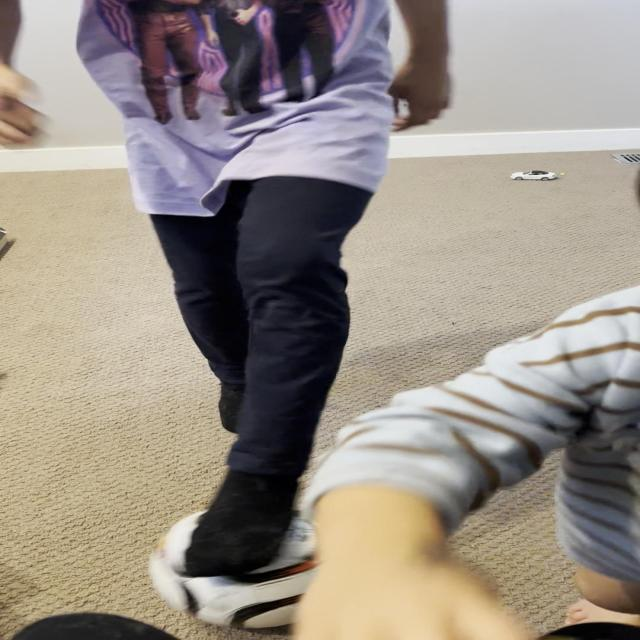Soccer Ball: (150, 506, 354, 627)
